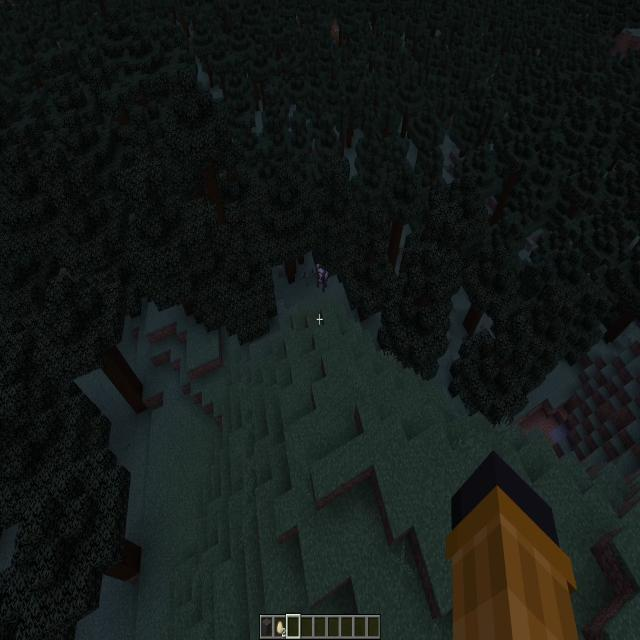Cow: (316, 267, 329, 291), (300, 270, 307, 278)
